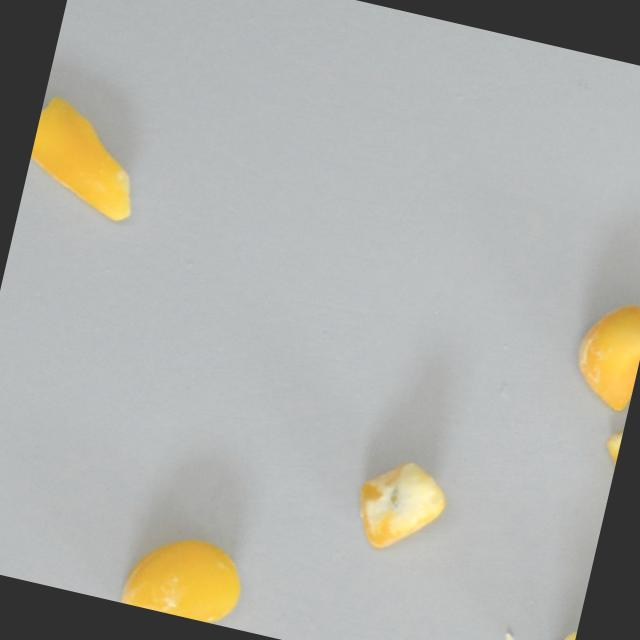dañado: (562, 288, 640, 410)
estandar: (17, 79, 161, 239), (553, 597, 583, 640)
pelicula: (117, 520, 251, 628)
punto_negro: (344, 449, 457, 563), (587, 404, 628, 512)
